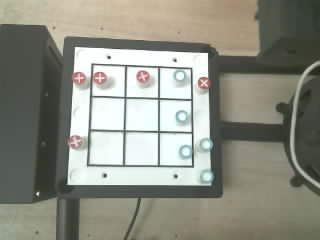blue circle: (179, 145, 193, 159), (200, 169, 213, 183), (199, 138, 212, 151), (176, 110, 188, 123), (174, 70, 186, 82)
board: (68, 47, 213, 185)
cells: (89, 131, 122, 164), (160, 133, 192, 165), (125, 133, 157, 165), (92, 65, 124, 96), (91, 98, 123, 129), (126, 99, 157, 130), (160, 100, 191, 131), (136, 70, 150, 87), (174, 70, 185, 82)
grid: (87, 64, 193, 167)
red cross: (67, 135, 83, 148), (136, 70, 149, 83), (93, 72, 107, 84), (72, 72, 85, 84), (198, 77, 211, 88)
